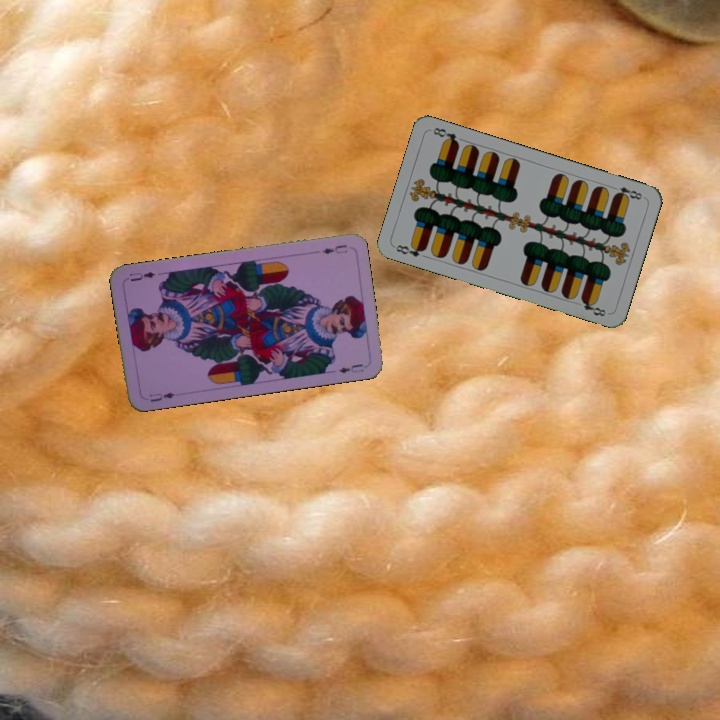E8: (608, 182, 647, 203), (392, 240, 429, 260)
EU: (146, 388, 177, 405), (318, 240, 350, 256)
